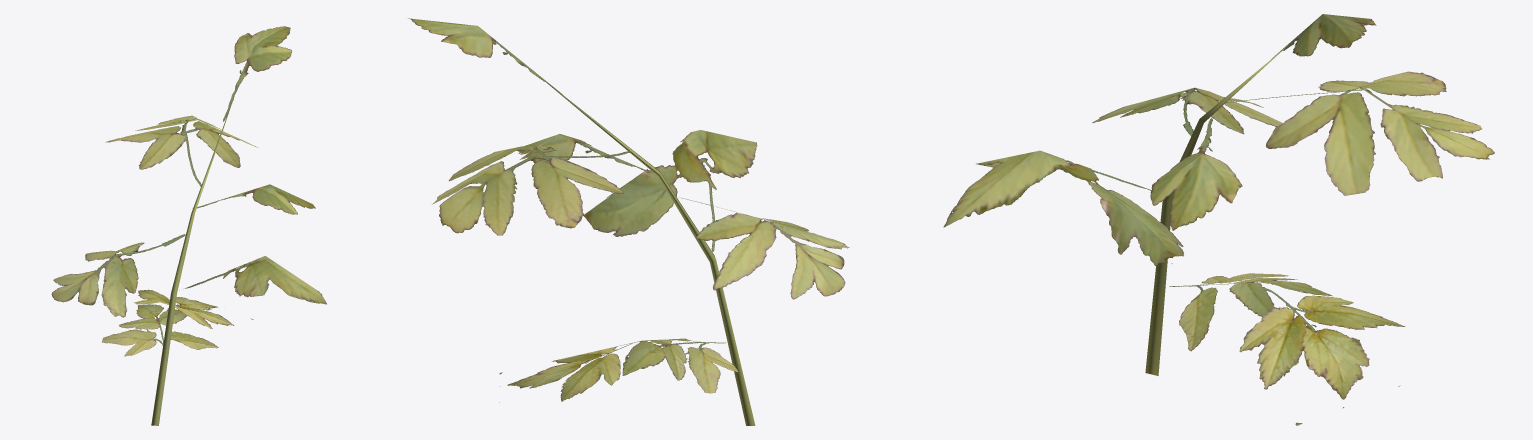
The model's file is SM_Plant_Forest_04.fbx.
3 views of the same model, side by side, from view 1: azimuth 30°, elevation 25°; view 2: azimuth 150°, elevation 25°; view 3: azimuth 270°, elevation 25° (orthographic). The views are drawn at different scales.
Parts seen in each view (by area): view 1: SM_Plant_Forest_04; view 2: SM_Plant_Forest_04; view 3: SM_Plant_Forest_04.
Boxes of the visible parts, left/top/right/bottom form: SM_Plant_Forest_04: left=51, top=26, right=326, bottom=425; SM_Plant_Forest_04: left=408, top=18, right=849, bottom=425; SM_Plant_Forest_04: left=943, top=14, right=1494, bottom=425.
Bounding box in the file's own units: 36 × 37.33 × 33.42.
1 material, 1 textured.
